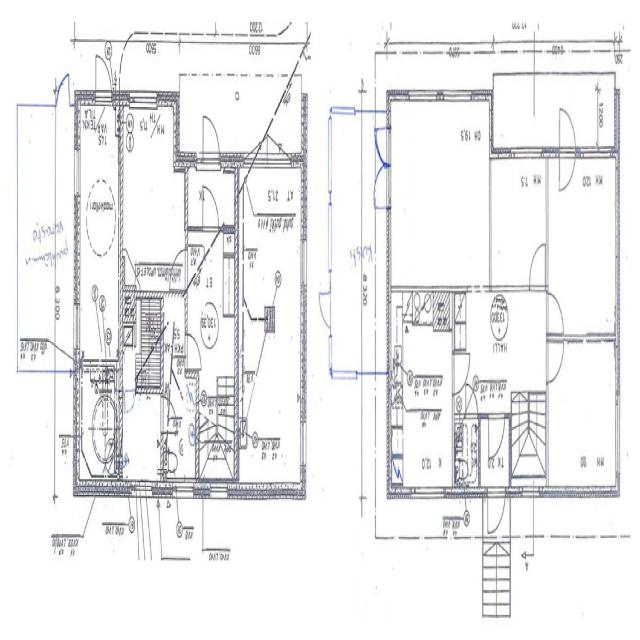door: (557, 103, 577, 197), (199, 108, 223, 176), (93, 51, 113, 112), (201, 182, 220, 238), (372, 157, 391, 213), (528, 239, 548, 292), (486, 410, 506, 463), (486, 485, 506, 537), (374, 119, 391, 180), (175, 481, 194, 535), (452, 346, 472, 396), (546, 334, 565, 386), (546, 288, 565, 337), (169, 246, 187, 294), (185, 328, 203, 375), (317, 282, 333, 332), (465, 385, 479, 420), (124, 384, 138, 414)
window: (268, 43, 296, 151), (563, 324, 613, 349), (129, 85, 159, 112), (266, 141, 292, 170), (510, 141, 543, 163), (578, 143, 612, 164), (441, 84, 473, 106), (413, 481, 444, 503), (613, 397, 622, 472), (72, 138, 82, 205), (408, 85, 439, 106), (72, 299, 82, 358), (298, 236, 308, 294), (298, 414, 308, 470), (331, 365, 359, 383), (209, 479, 229, 502)
zone: (389, 97, 492, 288), (547, 151, 619, 341), (15, 103, 65, 360), (119, 102, 183, 287), (547, 336, 619, 498), (240, 160, 304, 340), (391, 317, 455, 493), (239, 327, 305, 490), (457, 286, 548, 404), (330, 99, 368, 378), (186, 231, 238, 394), (490, 154, 547, 290), (77, 366, 118, 486), (118, 387, 166, 489), (164, 368, 198, 475), (198, 396, 236, 485), (510, 417, 546, 488), (454, 415, 480, 489)
